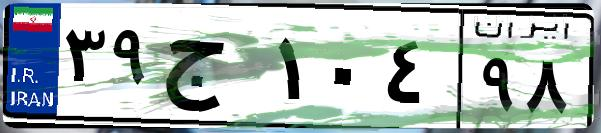0: (330, 28, 385, 110)
1: (270, 28, 330, 110)
3: (57, 26, 110, 100)
4: (385, 28, 445, 110)
8: (525, 38, 570, 115)
9: (475, 38, 525, 113), (110, 28, 158, 98)
ج: (158, 20, 270, 120)
